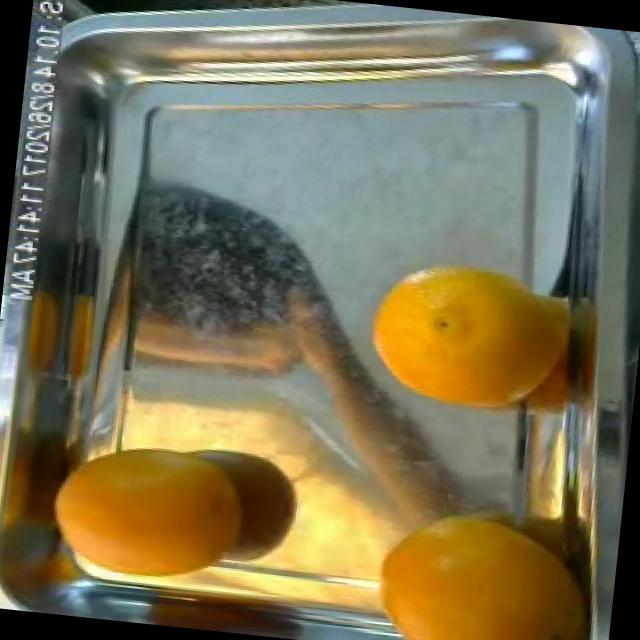Fruit: (346, 238, 564, 428)
